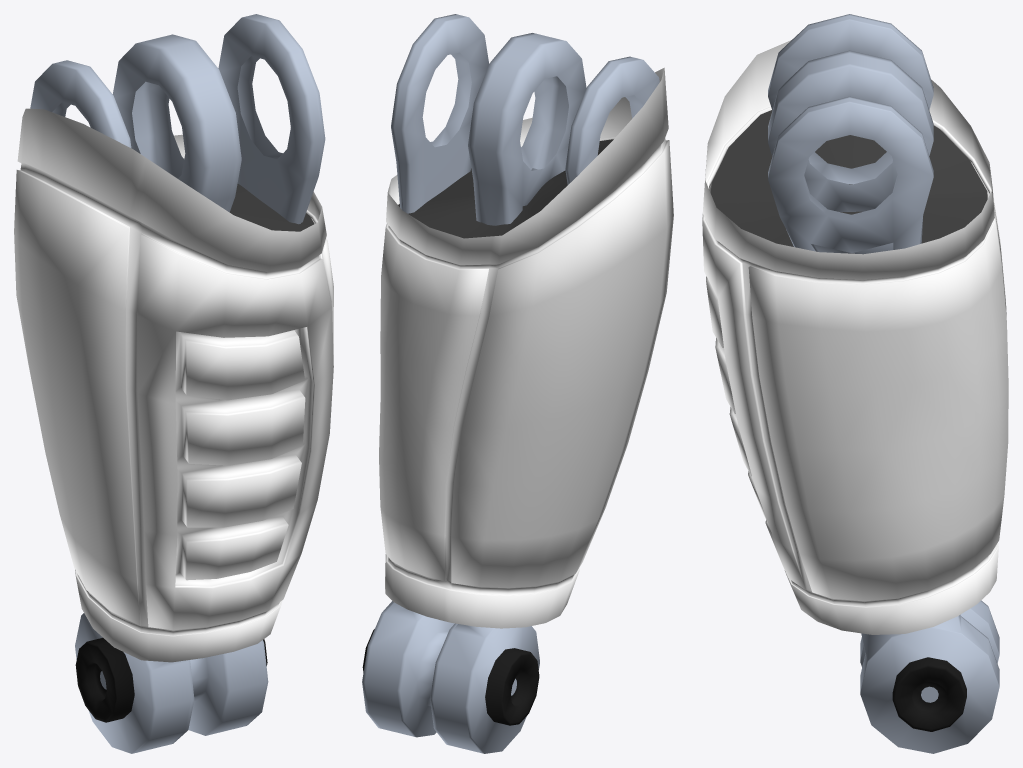
File: rightThigh.dae
3 renders of one model, left to right at view 1: azimuth 30°, elevation 25°; view 2: azimuth 150°, elevation 25°; view 3: azimuth 270°, elevation 25°, orthographic. The views are drawn at different scales.
Parts seen in each view (by area): view 1: Mesh_018, Circle_144, Circle_151; view 2: Mesh_018, Circle_144, Circle_151; view 3: Mesh_018, Circle_144, Circle_151.
Boxes of the visible parts, bbox=[...] form: Mesh_018: bbox=[14, 108, 333, 662]; Circle_144: bbox=[30, 14, 325, 224]; Circle_151: bbox=[75, 613, 268, 753]; Mesh_018: bbox=[379, 67, 673, 628]; Circle_144: bbox=[391, 14, 659, 225]; Circle_151: bbox=[362, 601, 539, 753]; Mesh_018: bbox=[702, 40, 1008, 634]; Circle_144: bbox=[768, 14, 933, 254]; Circle_151: bbox=[860, 600, 999, 753].
Bounding box in the file's own units: 2.67 × 3.03 × 7.14.
